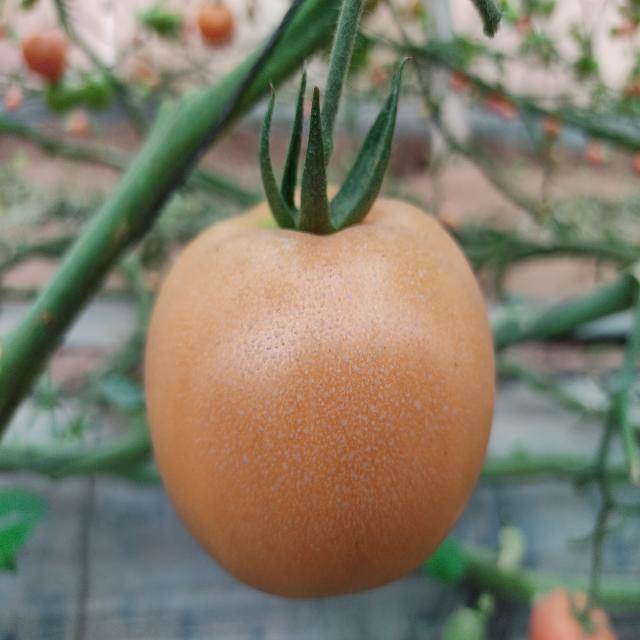Unripe Tomato: (148, 189, 494, 595)
